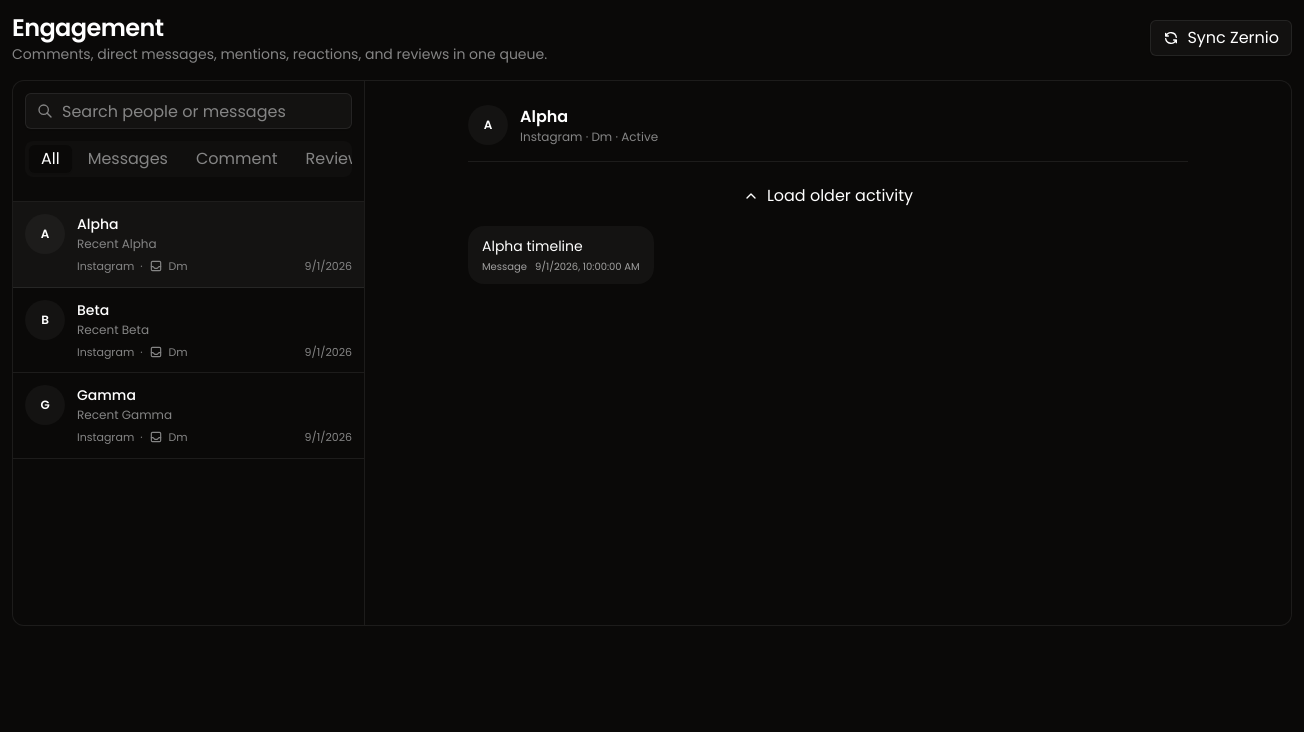
Test: UnifiedInbox › ignores a stale activity page after switching conversations
Click the button "Load older activity" at (828, 196), box [468, 178, 1188, 214]
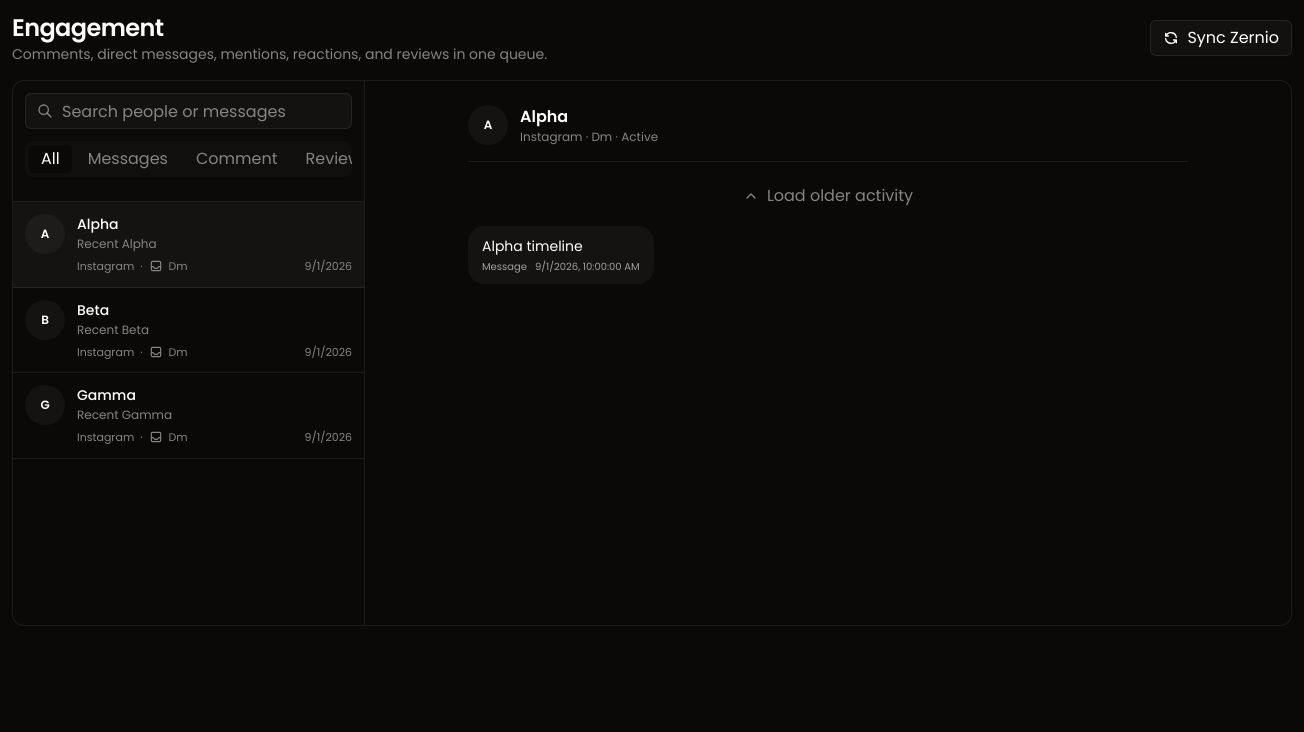
Click the button "B Beta Recent Beta instagram · dm 9/1/2026" at (45, 320), box [13, 288, 364, 373]
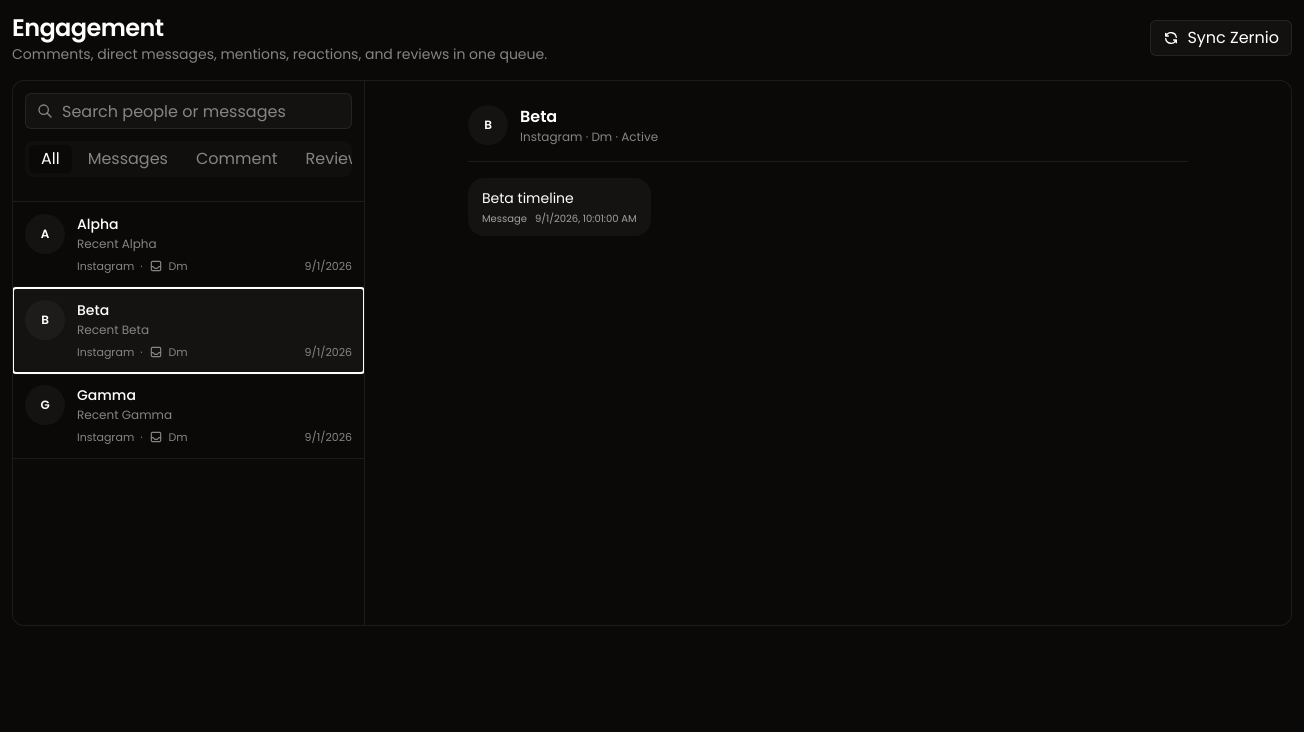
expect the heading "Beta" is shown: met, box [520, 105, 557, 128]
expect the text "Beta timeline" is shown: met, box [482, 188, 574, 208]
